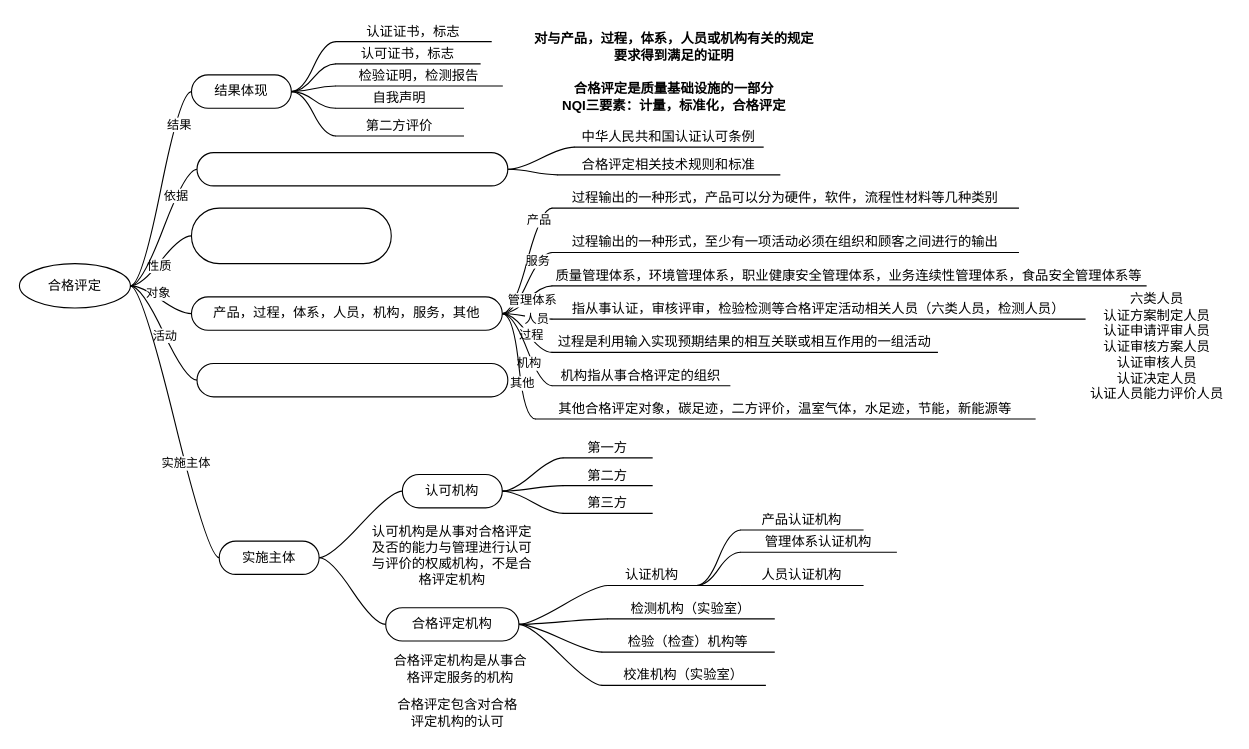
Image size: 1249x749. Some labels were removed from this diagram. The shapes that lost their labels are listed below. From the top down, each one's centre as x and y in pixels, then its label:
(x=352, y=169): 法规，标准，技术规范，供方和采购方的规定
(x=290, y=235): 第一方，第二方，第三方 强制性，自愿性
(x=352, y=379): 认证，认可，检测，检验，校准，自我声明等
